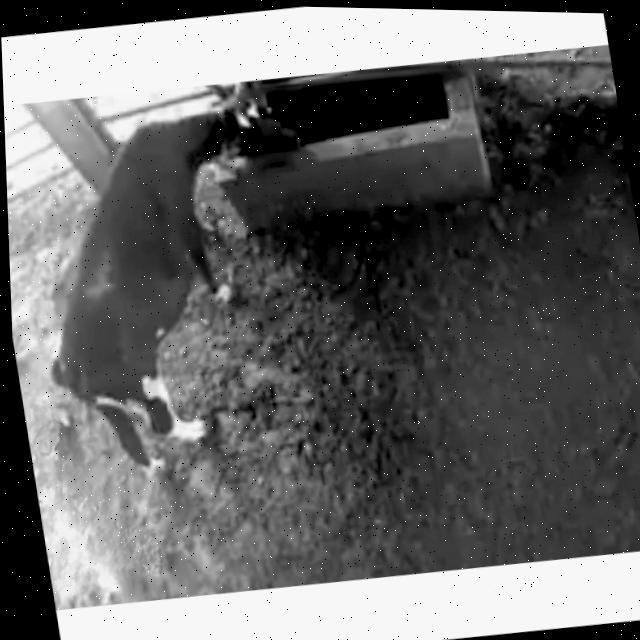drink: (149, 71, 331, 199)
